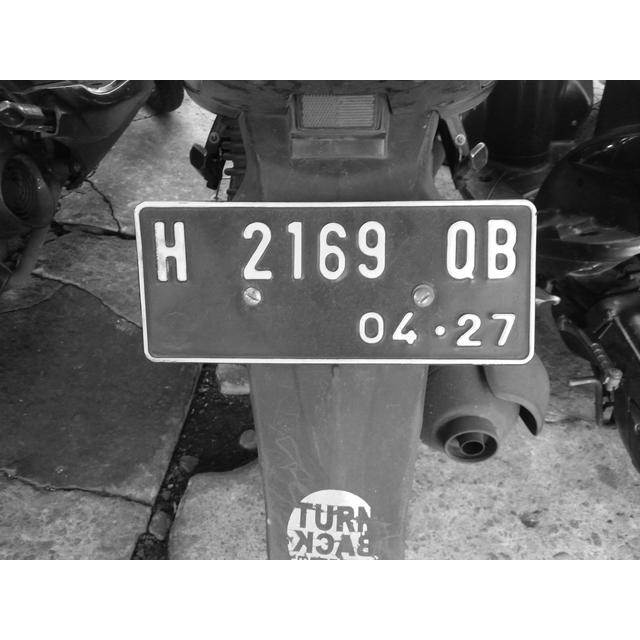license: (146, 213, 524, 348)
